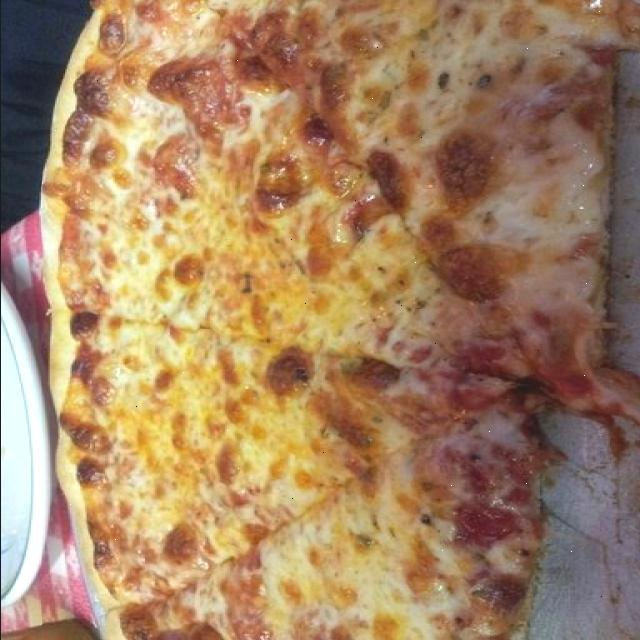pizza: (42, 1, 636, 639)
